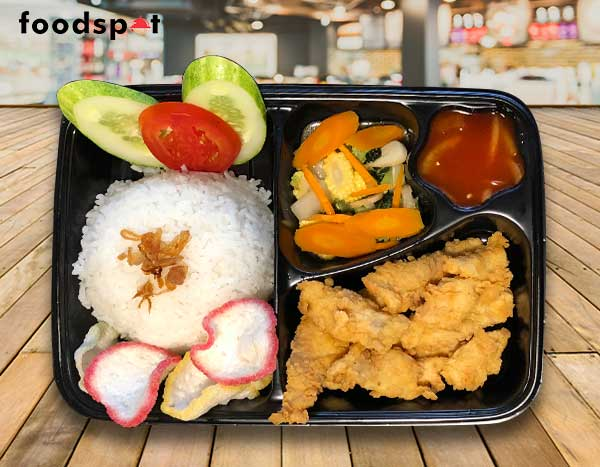buah_sayur_lainnya: (73, 89, 132, 132), (188, 65, 238, 105)
buah_sayur_vitA: (300, 129, 391, 244), (443, 120, 499, 176), (148, 110, 210, 155)
daging: (317, 286, 477, 383)
makanan_berpati: (103, 189, 210, 300), (96, 348, 252, 402)
